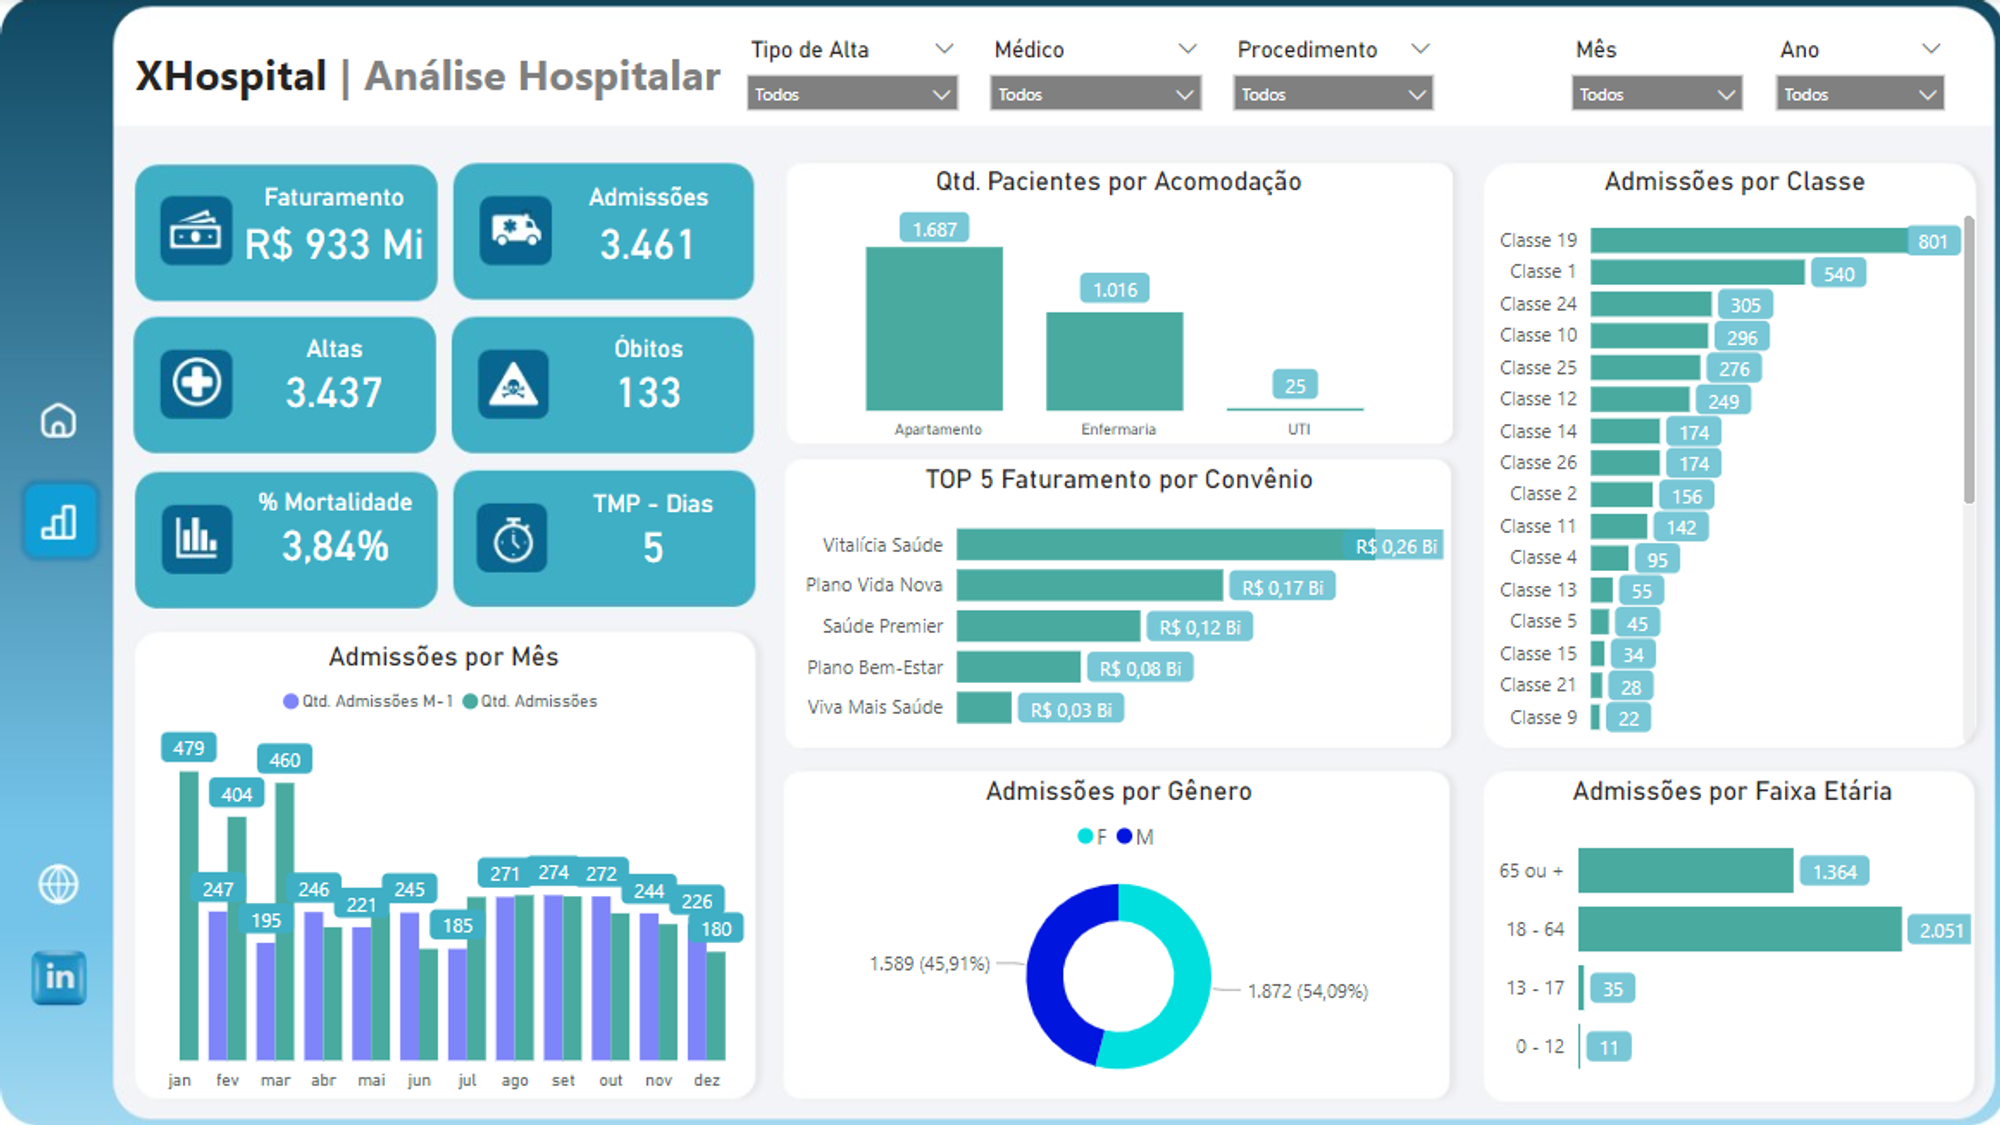

The page's visual inventory and layout, read from the dashboard file:
{"tool":"powerbi","page":{"name":"Visão Geral","canvas":[1280,720],"ordinal":1},"visuals":[{"type":"card","title":"Faturamento","fields":{"Values":["Medidas.Faturamento"]},"box":[145,117.8,134.3,64.2],"z":0},{"type":"slicer","fields":{"Values":["Tabela XHospital.medico"]},"box":[621,20.4,155.5,63.2],"z":1000},{"type":"slicer","fields":{"Values":["Tabela XHospital.procedimento"]},"box":[776.5,20.4,148.7,63.2],"z":2000},{"type":"textbox","box":[80.8,26.3,397.1,46.7],"z":3000},{"type":"clusteredBarChart","title":"Admissões por Classe","fields":{"Y":["Medidas.Qtd. Admissões"],"Category":["Tabela XHospital.classe"]},"box":[948.1,107.1,317.3,373.8],"z":4000},{"type":"clusteredColumnChart","title":"Admissões por Mês","fields":{"Y":["Medidas.Qtd. Admissões M-1","Medidas.Qtd. Admissões"],"Category":["dCalendario.Mês.Abrev"]},"box":[85.7,410.8,395.2,294.9],"z":5000},{"type":"donutChart","fields":{"Y":["Medidas.Qtd. Admissões"],"Category":["Tabela XHospital.genero_paciente"]},"box":[502.2,496,424.4,209.3],"z":6000},{"type":"clusteredBarChart","fields":{"Category":["Tabela XHospital.Faixa Etária"],"Y":["Medidas.Qtd. Admissões"]},"box":[948.1,496.4,314.4,209.3],"z":7000},{"type":"columnChart","title":"Qtd. Pacientes por Acomodação","fields":{"Category":["Tabela XHospital.acomodacao"],"Y":["Medidas.Qtd. Pacientes"]},"box":[502.2,106.7,424.4,182],"z":8000},{"type":"clusteredBarChart","title":"TOP 5 Faturamento por Convênio","fields":{"Category":["Tabela XHospital.convenio"],"Y":["Medidas.Faturamento"]},"box":[502.2,297.4,424.4,183],"z":9000},{"type":"slicer","fields":{"Values":["dCalendario.Mês"]},"box":[991.9,20.4,130.2,63.2],"z":10000},{"type":"slicer","fields":{"Values":["dCalendario.Ano"]},"box":[1122.1,20.4,128.3,63.2],"z":11000},{"type":"slicer","fields":{"Values":["Tabela XHospital.tipo_alta"]},"box":[465.5,20.4,155.5,63.2],"z":12000},{"type":"actionButton","box":[22.4,255,31.1,30.2],"z":13000},{"type":"card","title":"Admissões","fields":{"Values":["Medidas.Qtd. Admissões"]},"box":[346.5,117.8,134.3,64.2],"z":14000},{"type":"card","title":"Altas","fields":{"Values":["Medidas.Qtd. Altas"]},"box":[145,216.1,134.3,58.4],"z":15000},{"type":"card","title":"Óbitos","fields":{"Values":["Medidas.Óbitos"]},"box":[346.5,216.1,134.3,58.4],"z":16000},{"type":"card","title":"TMP - Dias","fields":{"Values":["Medidas.Tempo Médio de Permanência (Dias)"]},"box":[348.5,314.4,134.3,58.4],"z":17000},{"type":"card","title":"% Mortalidade","fields":{"Values":["Medidas.Taxa de Mortalidade"]},"box":[148.9,313.4,130.4,58.4],"z":18000},{"type":"actionButton","box":[15.6,600.6,46.7,44.8],"z":19000},{"type":"actionButton","box":[17.9,548.2,38.5,39.8],"z":20000}]}

Visuals, with their boxes on the page's 1280x720 design canvas (x1, y1, x2, y2). These are canvas units, not pixel positions in the 2000x1125 screenshot, which may show the page scaled, cropped or inside an application window:
"Faturamento" card: box(145, 118, 279, 182)
slicer - Tabela XHospital.medico: box(621, 20, 776, 84)
slicer - Tabela XHospital.procedimento: box(776, 20, 925, 84)
textbox: box(81, 26, 478, 73)
"Admissões por Classe" clusteredBarChart: box(948, 107, 1265, 481)
"Admissões por Mês" clusteredColumnChart: box(86, 411, 481, 706)
donutChart - Medidas.Qtd. Admissões x Tabela XHospital.genero_paciente: box(502, 496, 927, 705)
clusteredBarChart - Tabela XHospital.Faixa Etária x Medidas.Qtd. Admissões: box(948, 496, 1262, 706)
"Qtd. Pacientes por Acomodação" columnChart: box(502, 107, 927, 289)
"TOP 5 Faturamento por Convênio" clusteredBarChart: box(502, 297, 927, 480)
slicer - dCalendario.Mês: box(992, 20, 1122, 84)
slicer - dCalendario.Ano: box(1122, 20, 1250, 84)
slicer - Tabela XHospital.tipo_alta: box(466, 20, 621, 84)
actionButton: box(22, 255, 54, 285)
"Admissões" card: box(346, 118, 481, 182)
"Altas" card: box(145, 216, 279, 274)
"Óbitos" card: box(346, 216, 481, 274)
"TMP - Dias" card: box(348, 314, 483, 373)
"% Mortalidade" card: box(149, 313, 279, 372)
actionButton: box(16, 601, 62, 645)
actionButton: box(18, 548, 56, 588)
